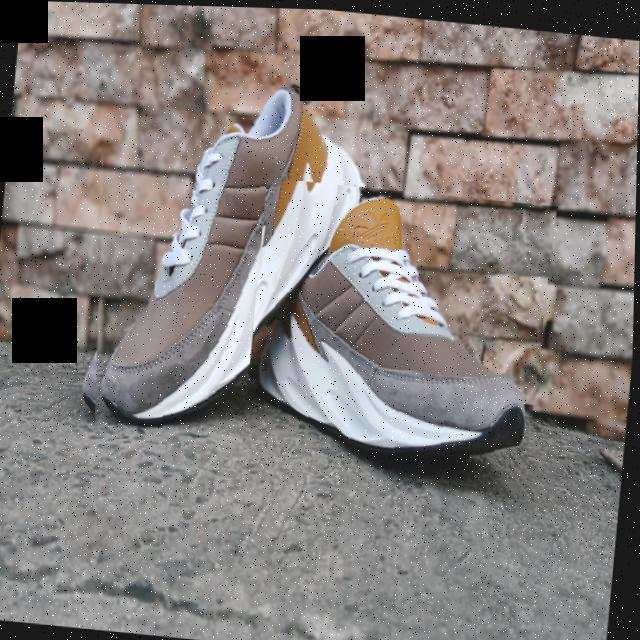shoe: (74, 67, 376, 459), (242, 175, 558, 494)
